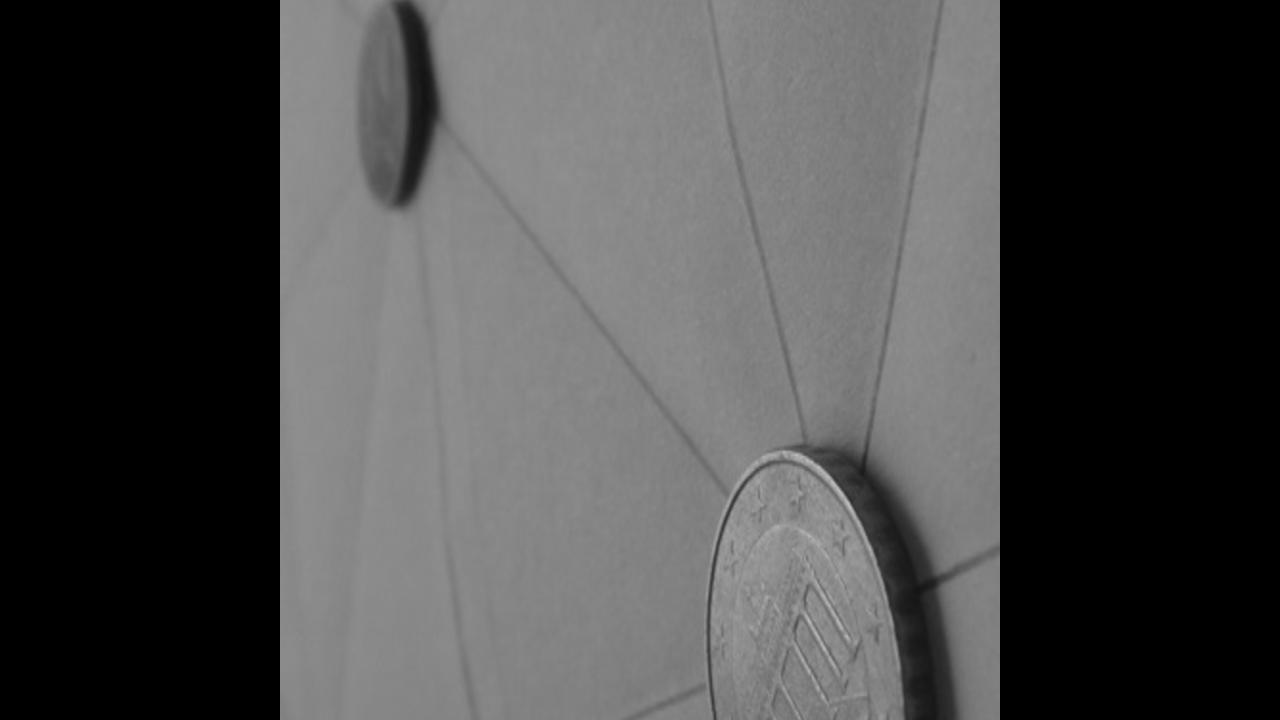coin: (703, 436, 937, 720), (352, 0, 432, 218)
